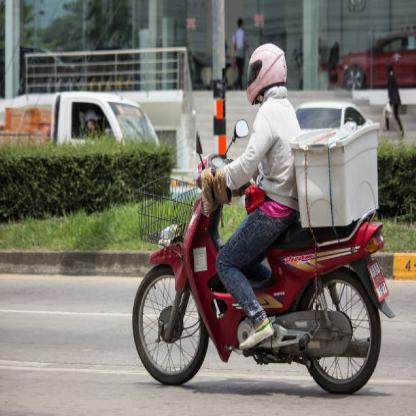Motorcycle: (133, 148, 383, 396)
